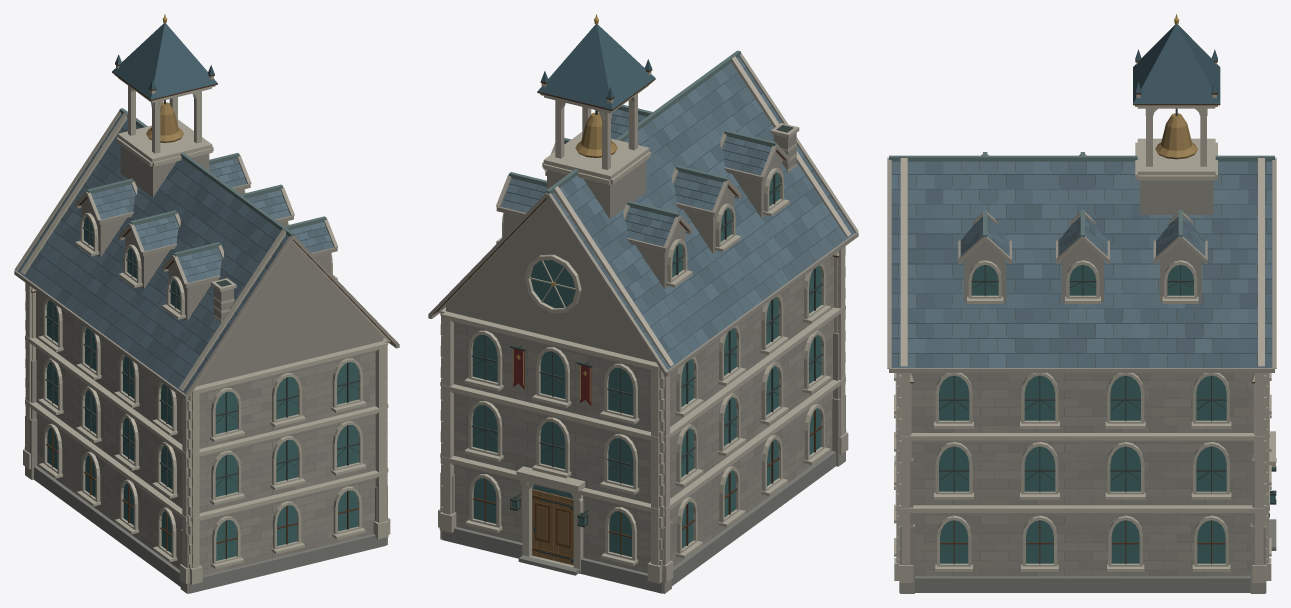
Rendered from TownHall.glb.
3 renders of one model, left to right at view 1: azimuth 30°, elevation 25°; view 2: azimuth 150°, elevation 25°; view 3: azimuth 270°, elevation 25°, orthographic. The views are drawn at different scales.
Visible parts, largest first — view 1: TownHall, TownHallGlass; view 2: TownHall, TownHallGlass, TownHallDoor; view 3: TownHall, TownHallGlass.
Part boxes in pixels (left/top/right/bottom): TownHall: left=14, top=14, right=399, bottom=593; TownHallGlass: left=47, top=216, right=358, bottom=560; TownHall: left=428, top=14, right=858, bottom=593; TownHallGlass: left=472, top=172, right=821, bottom=556; TownHallDoor: left=532, top=489, right=573, bottom=565; TownHall: left=887, top=14, right=1276, bottom=593; TownHallGlass: left=939, top=265, right=1274, bottom=563.
Bounding box in the file's own units: 10.39 × 21.62 × 14.53.
